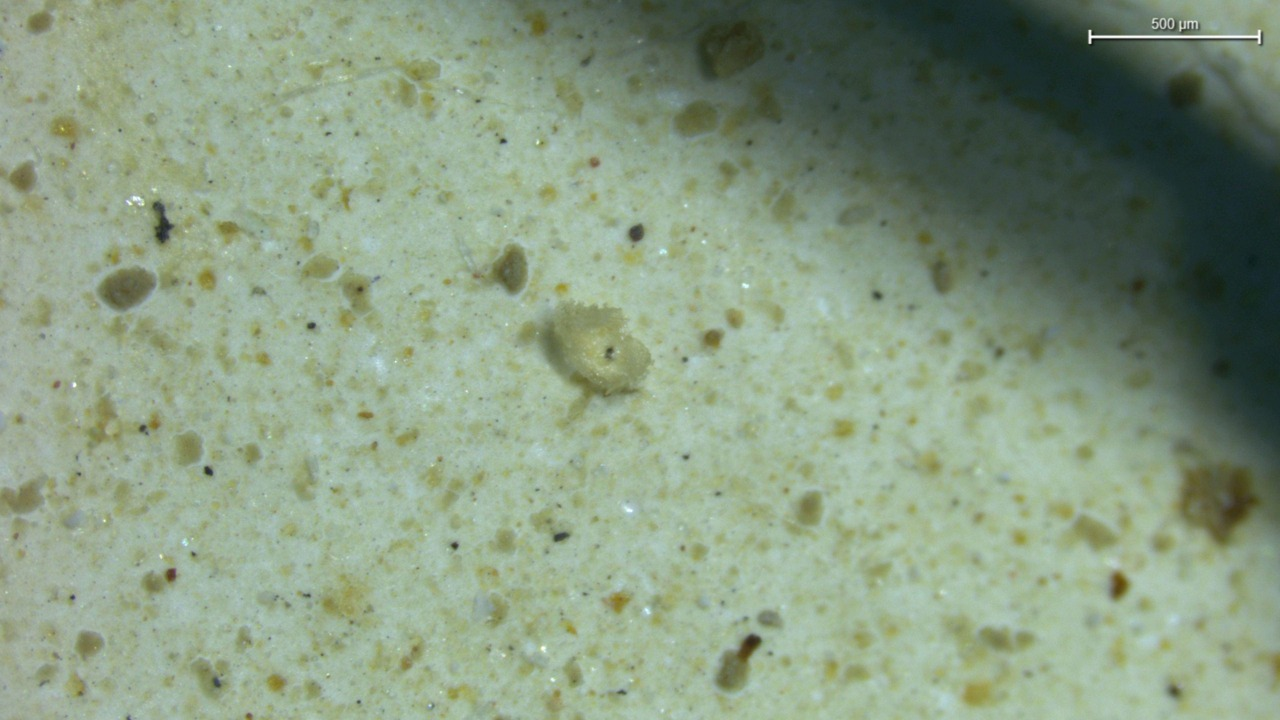microplastic_fragment: (547, 302, 652, 394)
